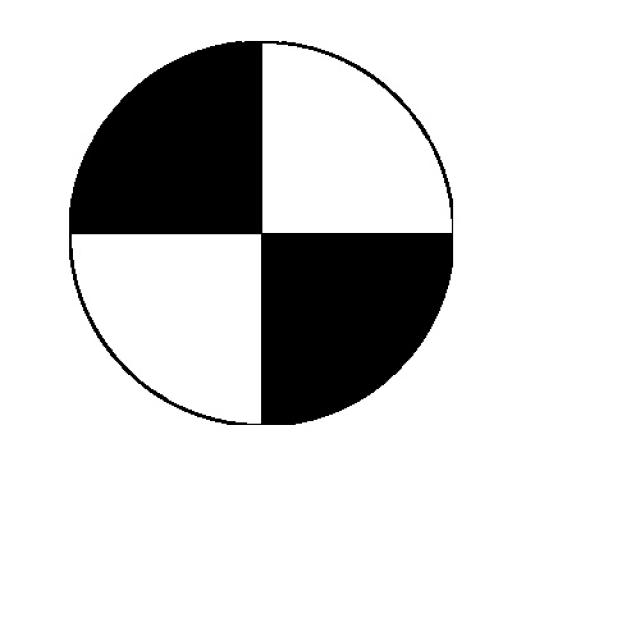Marcadores: (69, 44, 455, 425)
